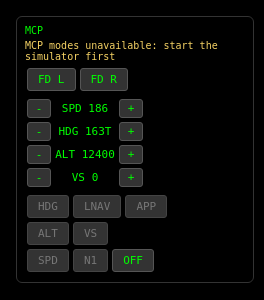
it: RfsMCP › edits selected MCP heading altitude and vertical-speed targets from current aircraft state
Click the button named "HDG -5": (39, 132) [27,122,51,141]
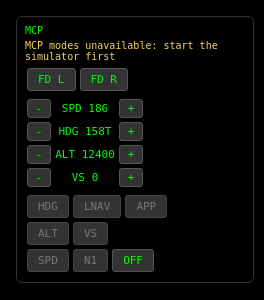
Click the button named "ALT +1000": (131, 154) [119,145,143,164]
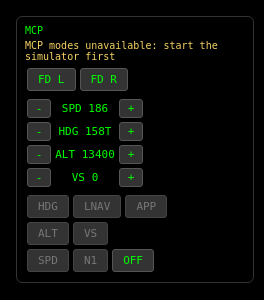
Click the button named "VS +100": (131, 178) [119,168,143,187]
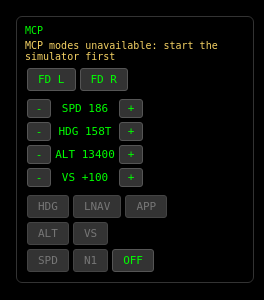
Now the text "VS +100" is shown, box [62,171,108,184]
